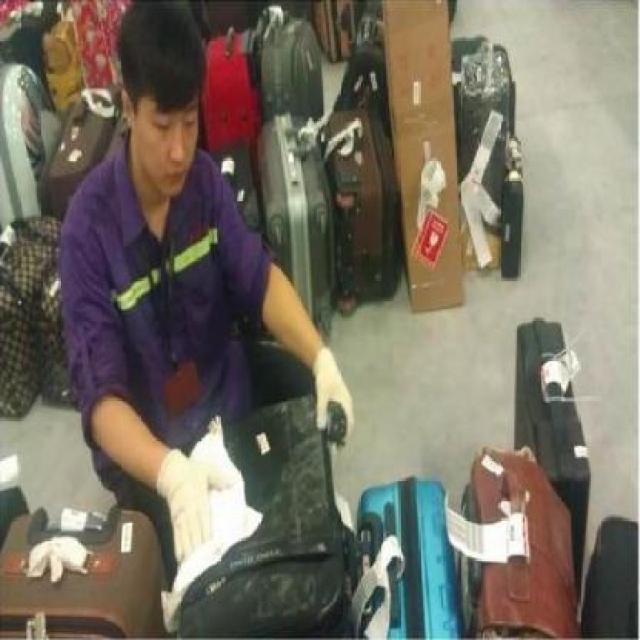face_nomask: (134, 103, 208, 194)
hand_glove: (164, 445, 230, 563), (311, 349, 354, 446)
head_nohelmet: (100, 8, 206, 117)
person: (40, 5, 351, 557)
